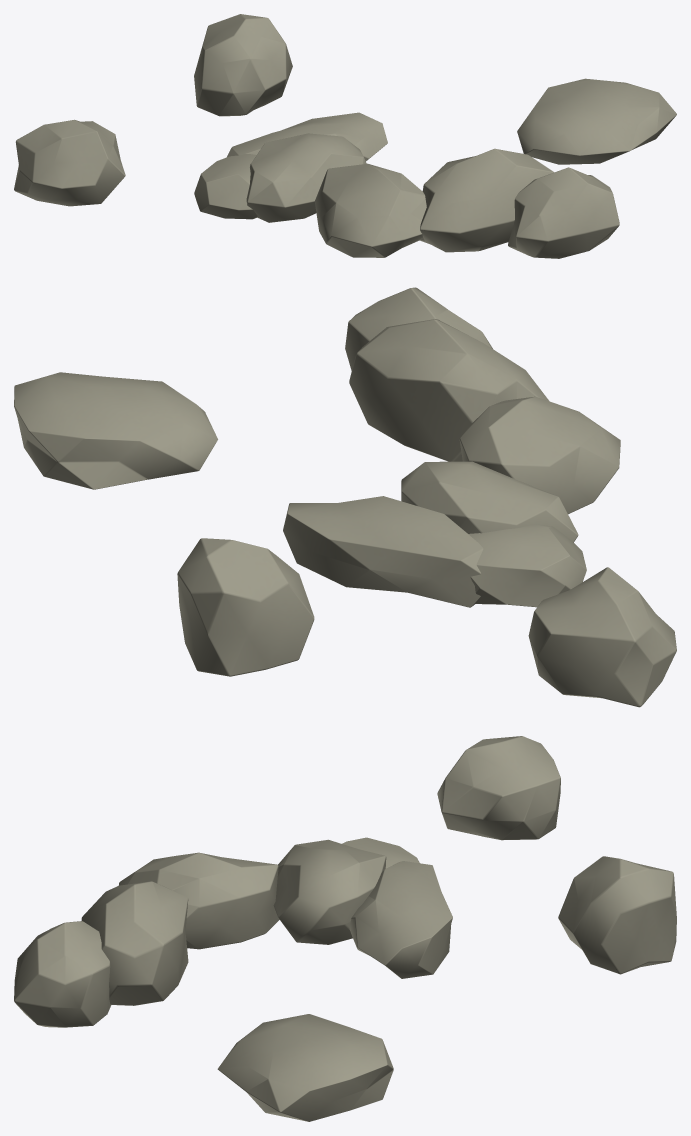
Rendered from pebble-cluster-060.glb.
3 views of the same model, one above another, from view 1: azimuth 30°, elevation 25°; view 2: azimuth 150°, elevation 25°; view 3: azimuth 270°, elevation 25° (orthographic). The views are drawn at different scales.
Parts seen in each view (by area): view 1: pebble-cluster-060 / N01 / warm weathered granite; view 2: pebble-cluster-060 / N01 / warm weathered granite; view 3: pebble-cluster-060 / N01 / warm weathered granite.
Boxes of the visible parts, box(x1,y1,x2,y2) form: pebble-cluster-060 / N01 / warm weathered granite: box(14, 14, 676, 258); pebble-cluster-060 / N01 / warm weathered granite: box(14, 287, 676, 707); pebble-cluster-060 / N01 / warm weathered granite: box(14, 736, 676, 1121).
Size of the model in its own units: 0.5356 by 0.0797 by 0.4481.
1 material, 1 textured.
